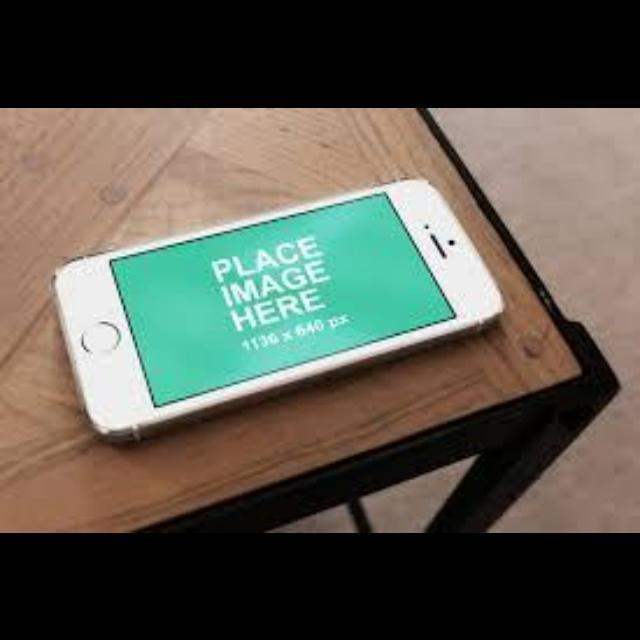phone: (21, 185, 527, 430)
